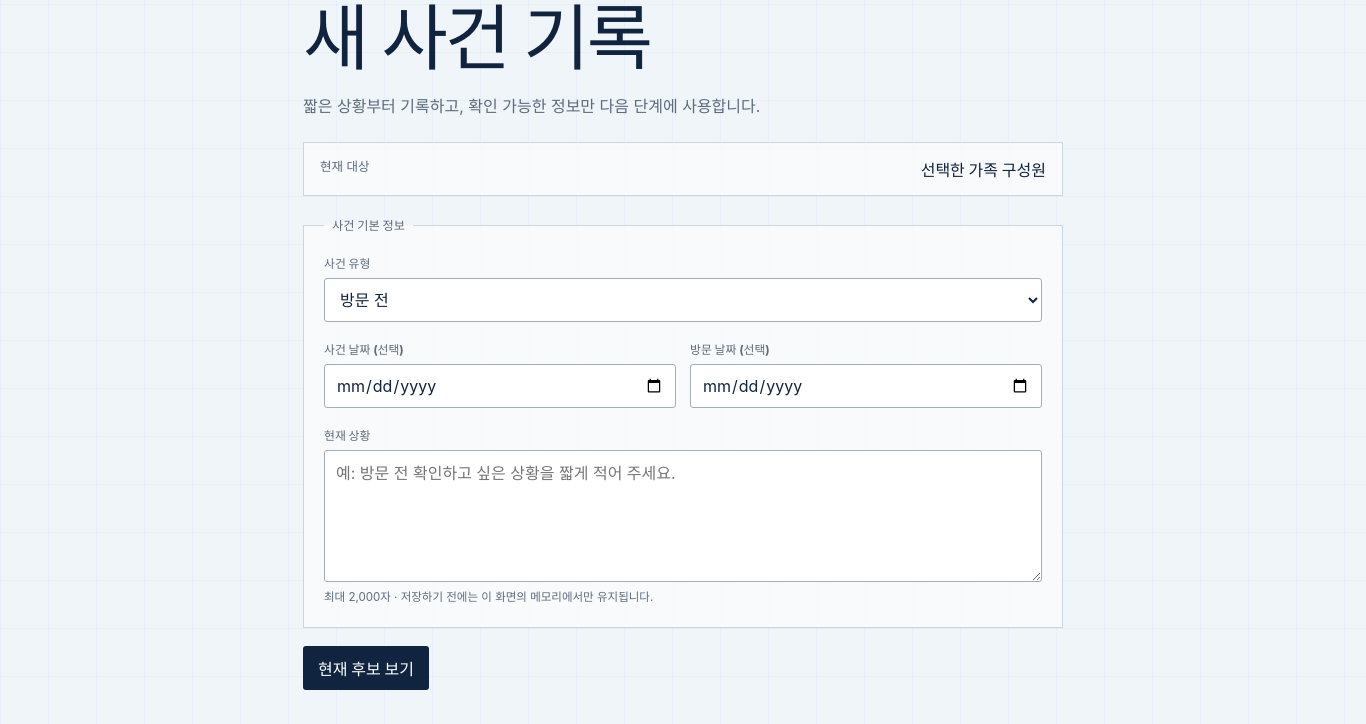
Test: hybrid medical event input › submits a pre-visit situation without requiring optional questions
Type "Synthetic pre-visit situation" into the text box labelled "현재 상황" at (683, 516), box [324,450,1042,582]
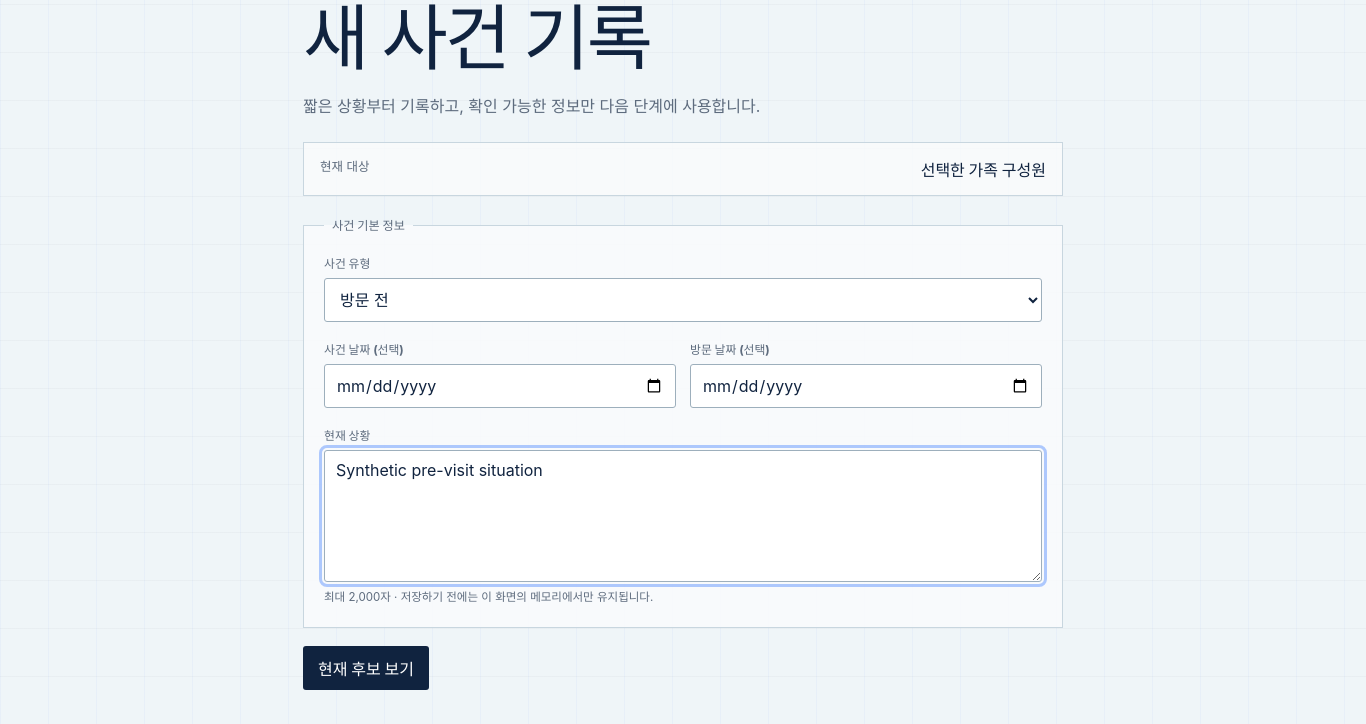
Click the button "현재 후보 보기" at (366, 668), box [303,646,429,690]
(page scrolled)
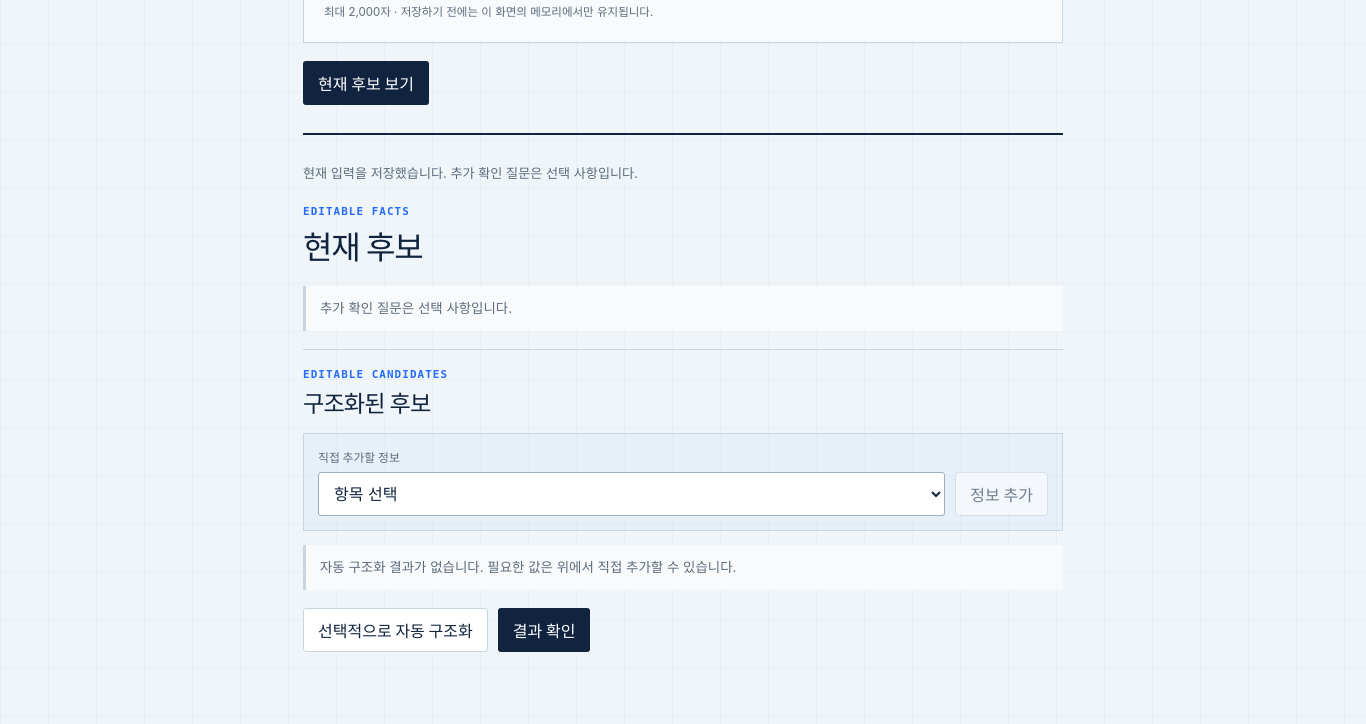
Result: the text "추가 확인 질문은 선택 사항입니다." is shown at [303,286,1063,331]
Result: the button "결과 확인" is shown at [498,608,590,652]
